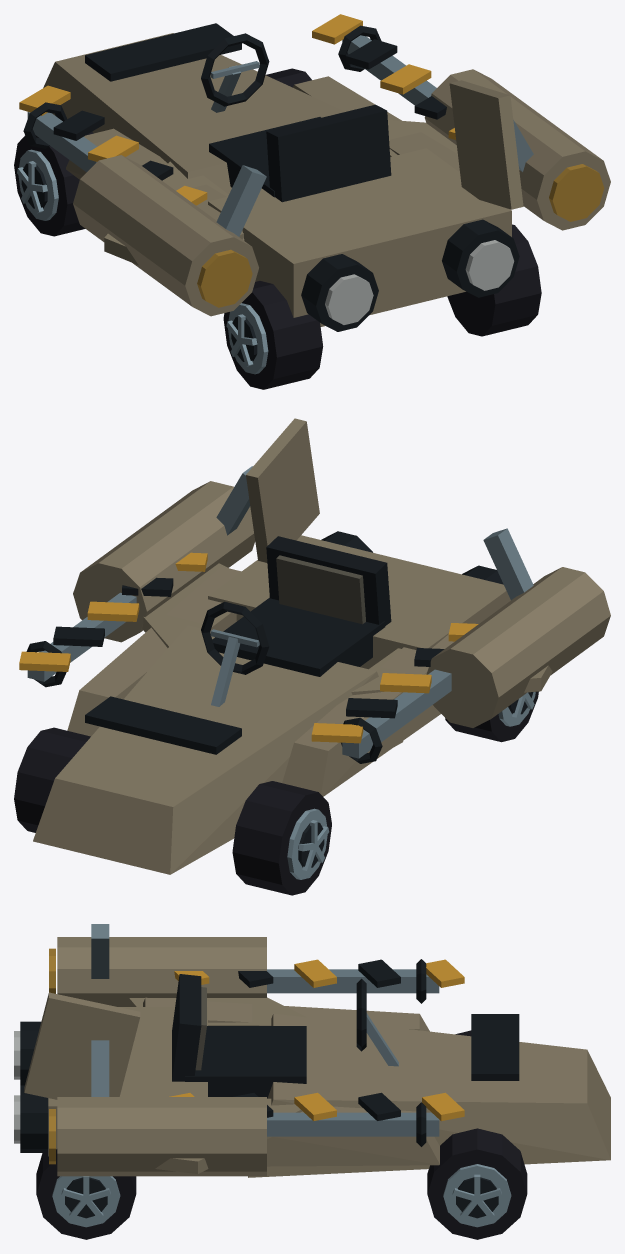
Rendered from kart.glb.
The picture shows the model from 3 angles, top to bottom: view 1: azimuth 30°, elevation 25°; view 2: azimuth 150°, elevation 25°; view 3: azimuth 270°, elevation 25°; orthographic projection. The views are drawn at different scales.
Parts seen in each view (by area): view 1: identity-shuttle-shuttle-flight-planform, identity-shuttle-motif-engine-pods, identity-shuttle-driver-cockpit, wheel-rear-left, identity-shuttle-motif-hazard-stripes, identity-shuttle-motif-pipes, wheel-front-left, wheel-rear-right; view 2: identity-shuttle-shuttle-flight-planform, identity-shuttle-motif-engine-pods, identity-shuttle-driver-cockpit, wheel-front-left, identity-shuttle-motif-pipes, identity-shuttle-motif-hazard-stripes, wheel-front-right, wheel-rear-left; view 3: identity-shuttle-shuttle-flight-planform, identity-shuttle-motif-engine-pods, identity-shuttle-driver-cockpit, identity-shuttle-motif-pipes, wheel-front-right, identity-shuttle-motif-hazard-stripes, wheel-rear-right.
Part boxes in pixels (x1,y1,x2,y2): identity-shuttle-shuttle-flight-planform: (43, 23, 523, 331); identity-shuttle-motif-engine-pods: (73, 69, 610, 316); identity-shuttle-driver-cockpit: (201, 33, 391, 202); wheel-rear-left: (223, 281, 323, 389); identity-shuttle-motif-hazard-stripes: (19, 14, 455, 205); identity-shuttle-motif-pipes: (23, 25, 533, 236); wheel-front-left: (14, 131, 93, 236); wheel-rear-right: (447, 224, 541, 336); identity-shuttle-shuttle-flight-planform: (33, 418, 552, 874); identity-shuttle-motif-engine-pods: (73, 481, 610, 727); identity-shuttle-driver-cockpit: (201, 536, 391, 706); wheel-front-left: (232, 781, 331, 895); identity-shuttle-motif-pipes: (26, 466, 533, 763); identity-shuttle-motif-hazard-stripes: (19, 552, 478, 743); wheel-front-right: (14, 727, 90, 832); wheel-rear-left: (445, 691, 538, 742); identity-shuttle-shuttle-flight-planform: (14, 992, 610, 1177); identity-shuttle-motif-engine-pods: (49, 937, 266, 1176); identity-shuttle-driver-cockpit: (172, 974, 398, 1098); identity-shuttle-motif-pipes: (91, 924, 439, 1146); wheel-front-right: (427, 1128, 527, 1239); identity-shuttle-motif-hazard-stripes: (169, 959, 464, 1121); wheel-rear-right: (36, 1149, 136, 1239).
Size of the model in its own units: 2.36 by 1.28 by 2.99.
